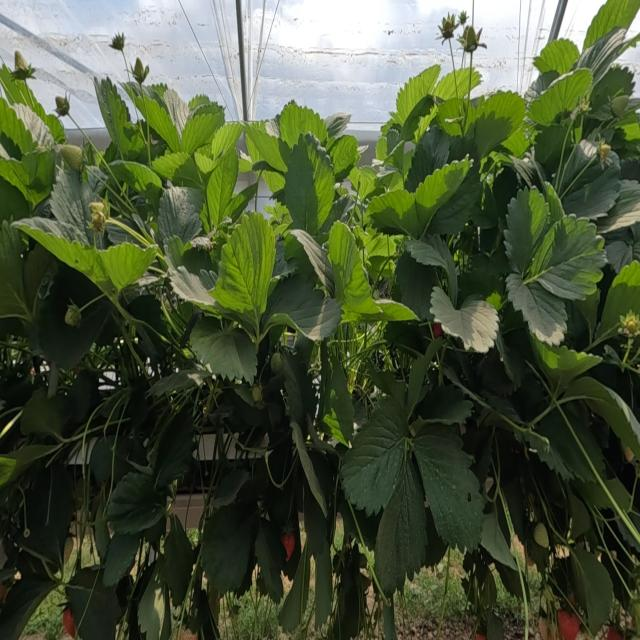Leaves: (413, 424, 483, 551), (341, 396, 407, 514), (374, 456, 427, 597), (213, 213, 275, 331), (13, 221, 110, 291), (34, 283, 107, 370), (563, 376, 640, 456), (19, 461, 74, 567), (200, 498, 259, 594), (536, 407, 604, 490), (538, 219, 605, 299), (259, 274, 341, 339), (414, 157, 481, 236), (284, 135, 335, 234), (506, 274, 567, 344), (190, 316, 256, 380), (431, 290, 499, 351), (66, 566, 122, 639), (304, 495, 334, 629), (504, 187, 550, 274), (568, 545, 613, 633), (327, 222, 370, 310), (292, 423, 332, 516), (533, 335, 601, 389), (525, 452, 565, 543), (97, 79, 142, 159), (0, 573, 54, 639), (596, 260, 639, 341), (107, 473, 164, 534), (152, 408, 194, 490), (530, 68, 591, 124), (50, 171, 96, 245), (404, 235, 457, 299), (563, 164, 620, 219), (395, 251, 439, 320), (163, 515, 196, 605), (582, 0, 639, 52), (98, 242, 157, 292), (406, 125, 450, 190), (406, 340, 442, 419), (282, 354, 317, 434), (280, 544, 312, 631), (1, 221, 29, 318), (395, 65, 439, 126), (554, 140, 599, 199), (206, 147, 239, 227), (286, 230, 331, 288), (256, 516, 287, 600), (138, 561, 171, 639), (158, 187, 203, 243), (366, 189, 416, 236), (279, 100, 327, 147), (597, 180, 639, 232), (141, 95, 180, 151), (21, 388, 66, 436), (481, 90, 525, 139), (471, 112, 510, 167), (245, 122, 286, 174), (481, 506, 515, 567), (10, 103, 55, 149), (417, 385, 471, 423), (0, 98, 36, 155), (591, 65, 633, 112), (169, 267, 216, 309), (104, 533, 139, 586), (181, 110, 222, 155), (153, 153, 204, 188), (332, 359, 354, 439), (109, 159, 162, 191), (496, 332, 526, 386), (533, 39, 579, 74), (434, 67, 481, 99), (439, 97, 477, 135), (212, 468, 249, 507), (369, 363, 405, 398), (163, 87, 190, 133), (330, 136, 358, 179), (89, 436, 114, 483), (212, 122, 243, 158), (149, 372, 194, 395), (361, 229, 396, 258), (349, 167, 376, 201), (605, 240, 632, 273), (376, 300, 417, 321), (326, 114, 351, 139), (0, 456, 16, 487), (195, 152, 217, 174), (487, 611, 504, 639), (385, 172, 403, 191), (386, 129, 399, 154), (376, 137, 387, 161)
Strawberries: (458, 26, 481, 54), (557, 611, 579, 639), (60, 145, 83, 171), (13, 52, 35, 79), (438, 16, 458, 42), (133, 57, 149, 87), (611, 94, 628, 119), (539, 618, 559, 639), (281, 532, 295, 561), (622, 313, 639, 335), (62, 608, 75, 635), (534, 523, 547, 547), (55, 96, 70, 116), (64, 305, 79, 325), (110, 32, 125, 51), (91, 212, 104, 231), (271, 353, 283, 373), (606, 626, 622, 639), (598, 143, 610, 159), (431, 322, 443, 338), (252, 386, 261, 402)
